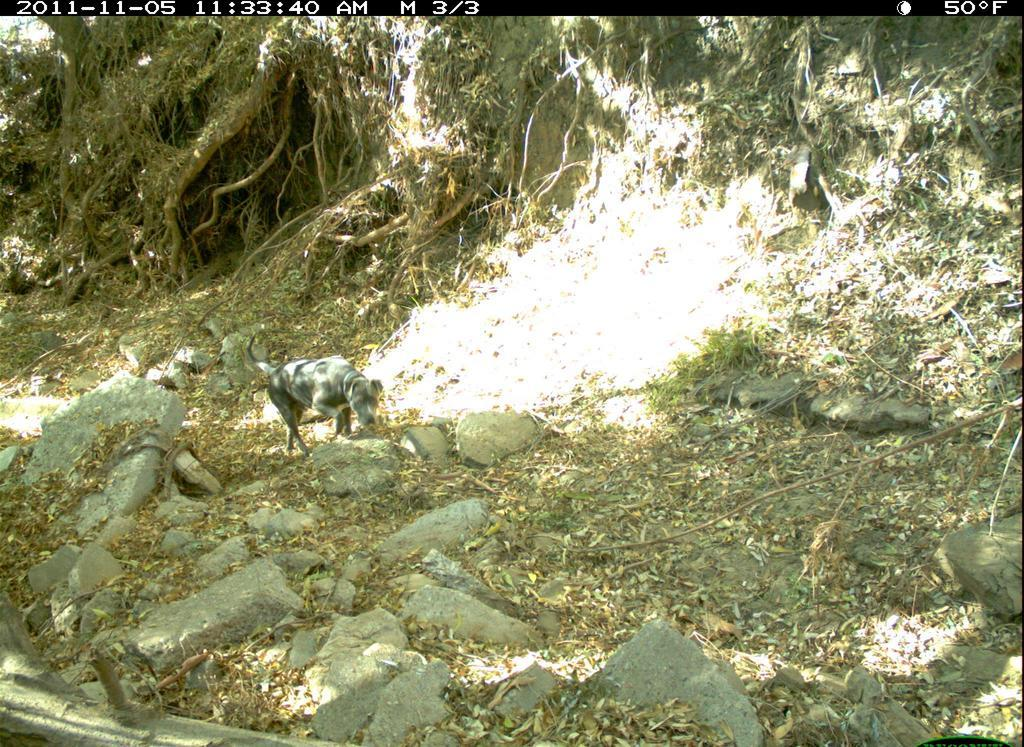dog: (246, 329, 385, 460)
